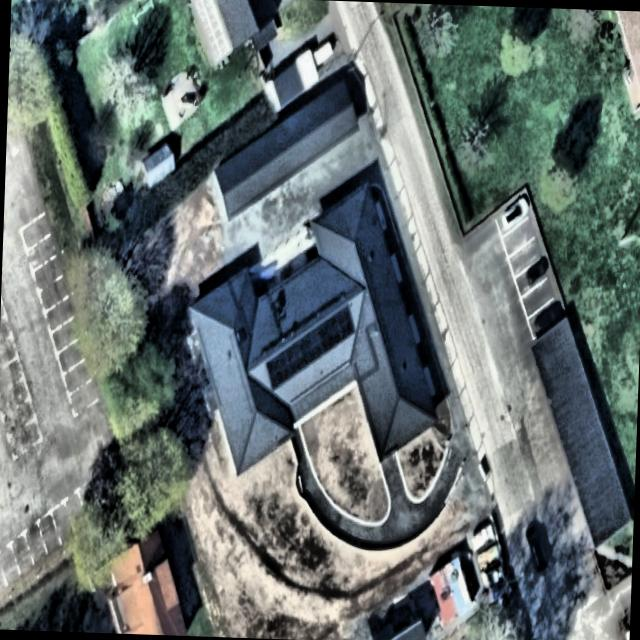roof_pv: (262, 298, 358, 394)
